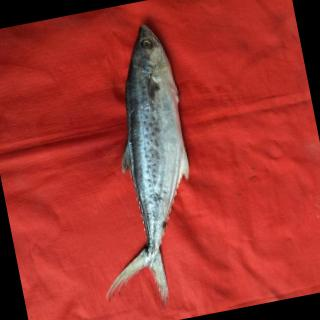Ikan: (56, 12, 236, 315)
